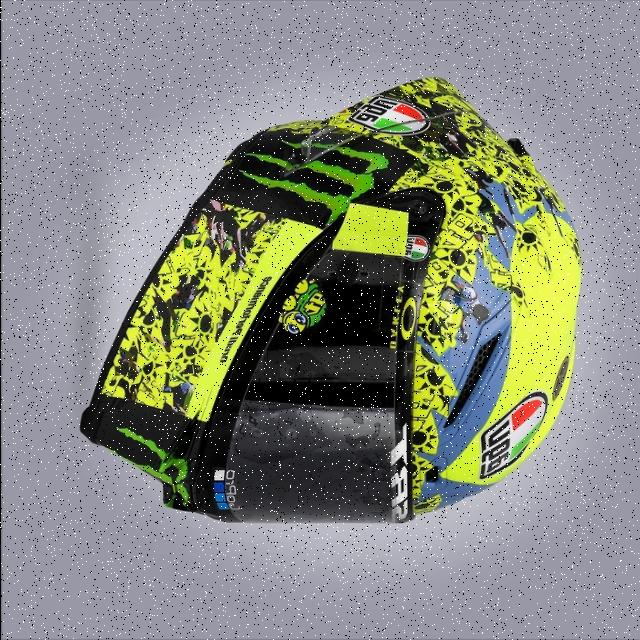Helmet: (77, 78, 580, 524)
